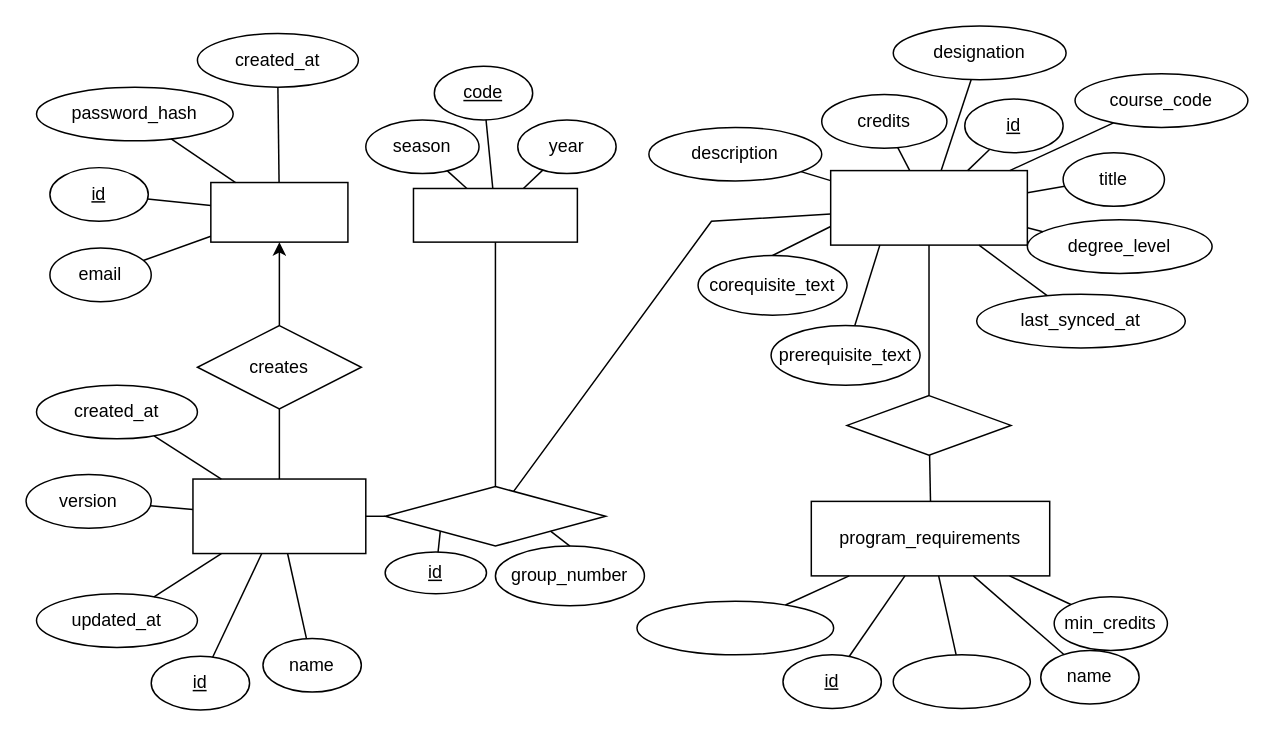
Some shapes in this 1274 by 736 pixel diagram are drawn without their labels. The centre of each missing label's shape, as x and y in pixels:
"Courses" goes at [928,207].
"includes" goes at [928,424].
"min_courses" goes at [734,627].
"Planned_Courses" goes at [495,515].
"Plans" goes at [278,516].
"program_code" goes at [961,680].
"Term" goes at [494,214].
"Users" goes at [278,211].
